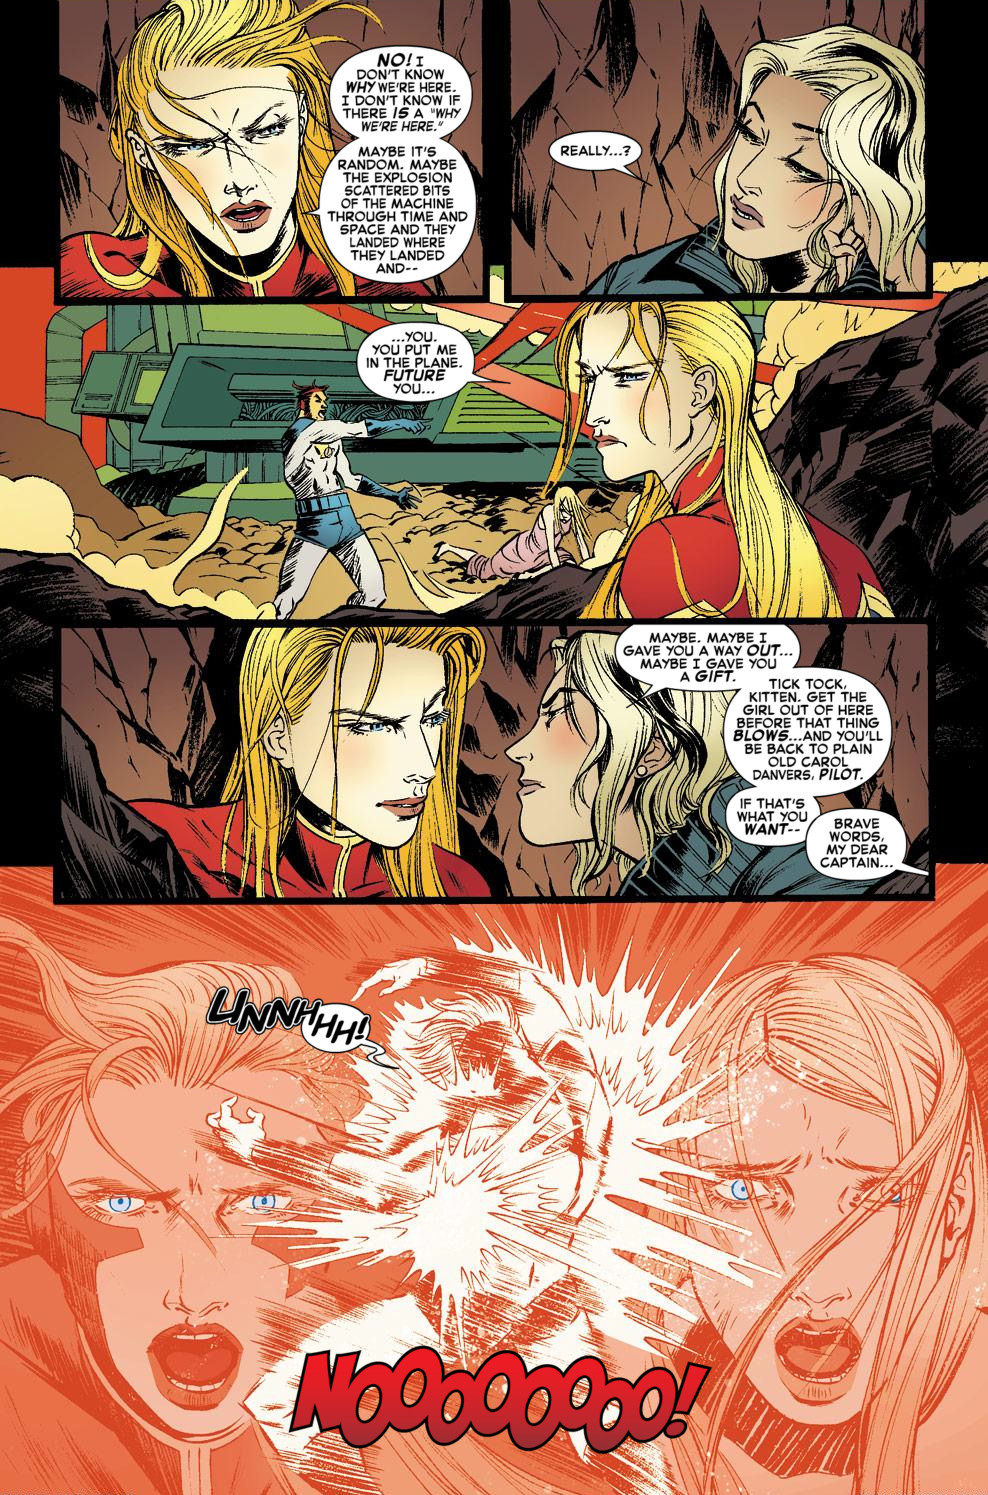Baloon: (267, 1304, 719, 1459), (610, 627, 892, 845), (316, 43, 474, 284), (350, 318, 506, 402), (208, 990, 391, 1052), (799, 809, 942, 886), (540, 131, 663, 204)
Vignetta: (4, 856, 987, 1494), (4, 268, 987, 863), (56, 630, 935, 904), (49, 1, 485, 297), (508, 2, 935, 295)
